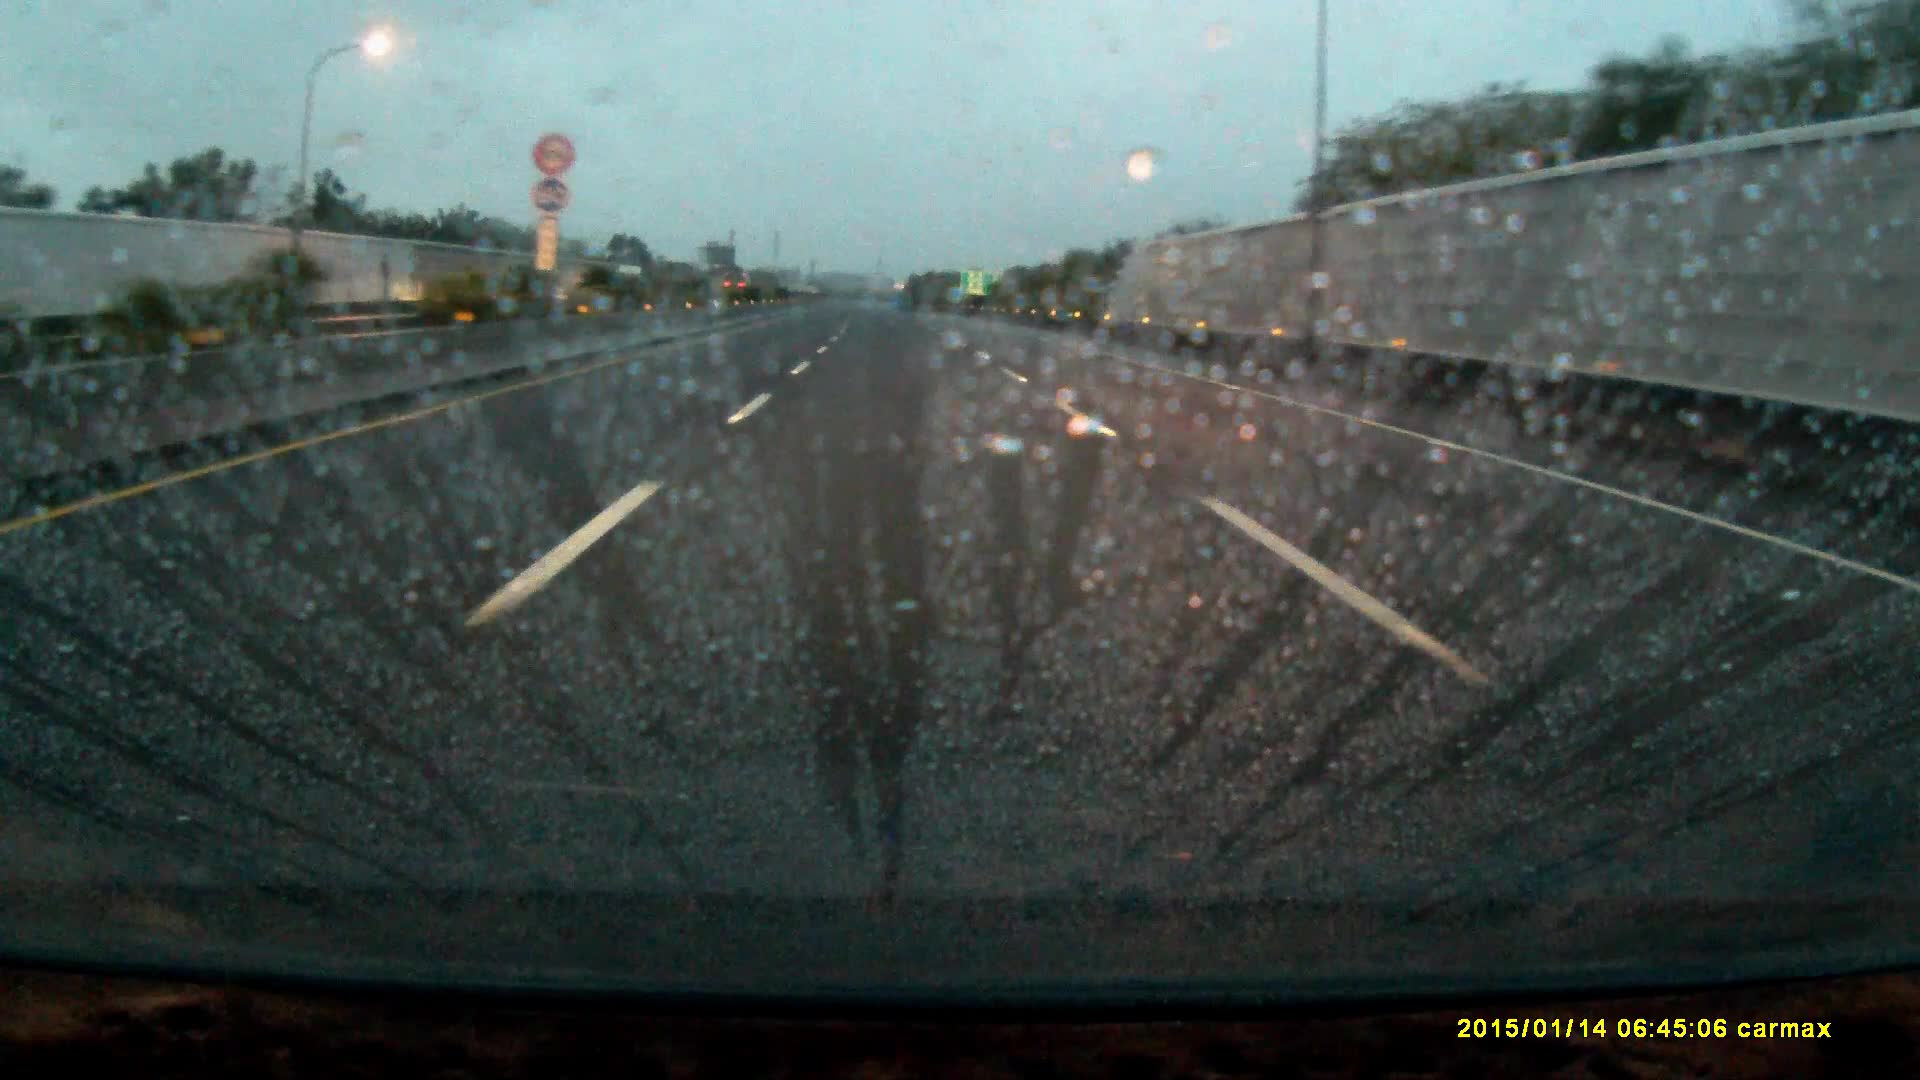vehicle: (616, 266, 651, 302), (723, 282, 756, 309)
